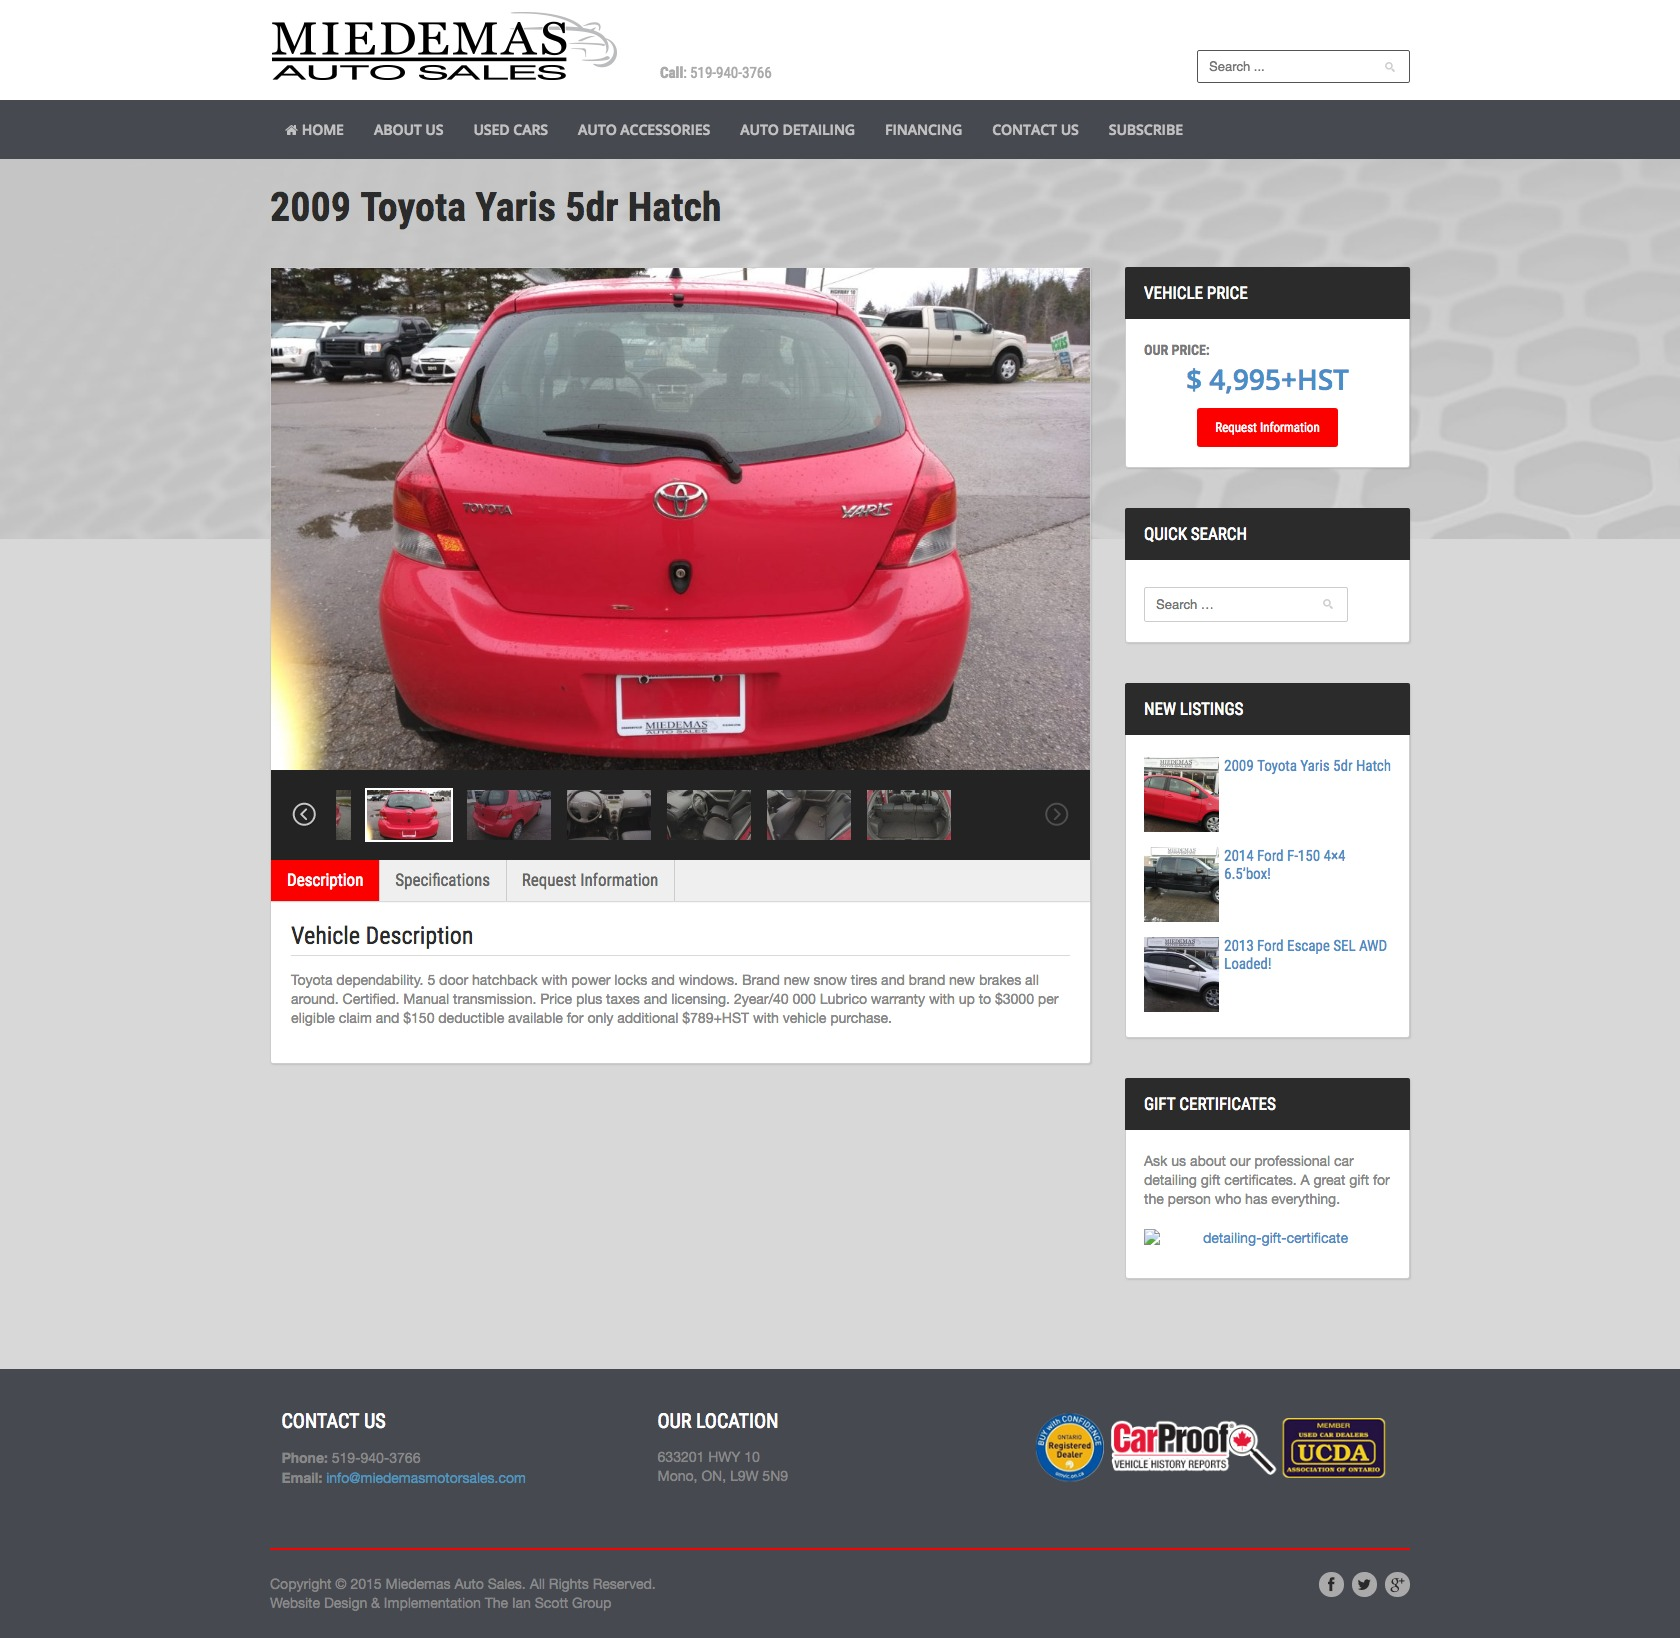car: (1044, 802, 1069, 826)
